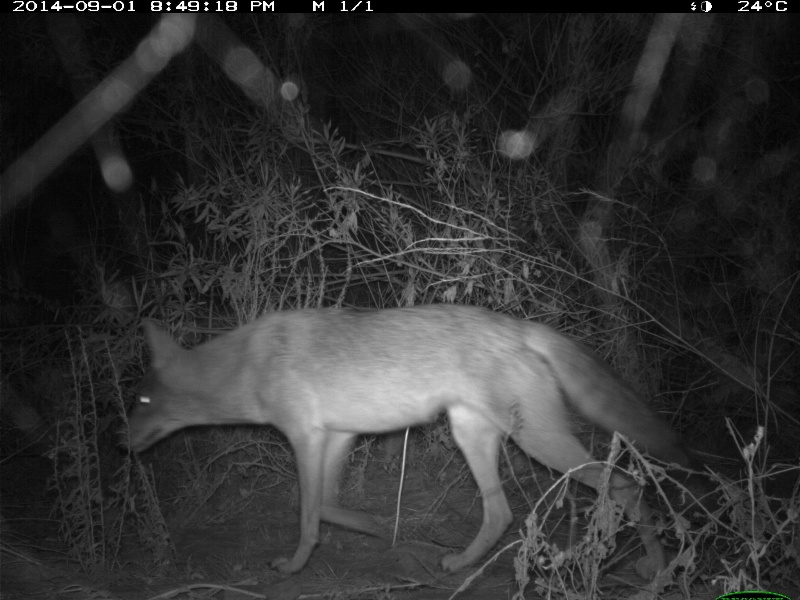coyote: (112, 298, 689, 576)
